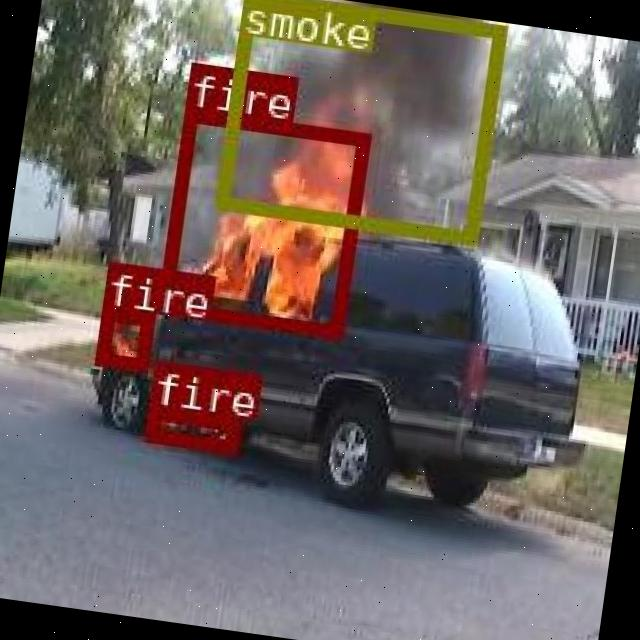fire: (154, 107, 368, 336), (144, 404, 238, 450), (93, 304, 153, 369)
smoke: (213, 0, 503, 242)
